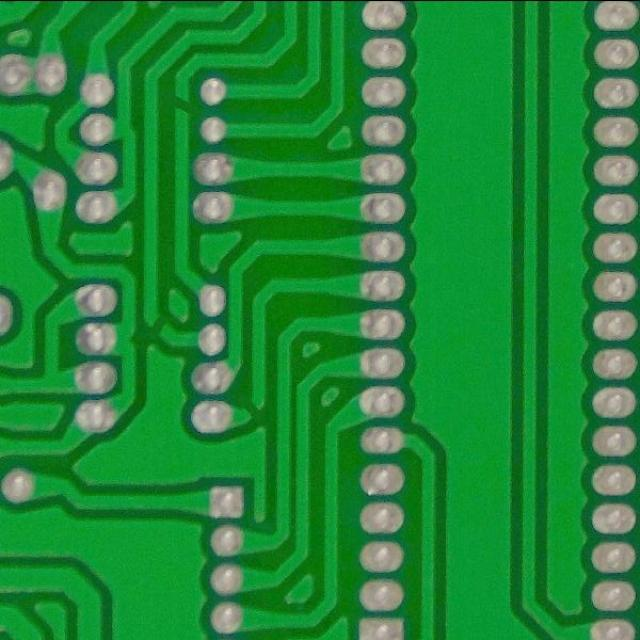open_circuit: (143, 308, 171, 338), (239, 394, 264, 426), (165, 93, 194, 120)
